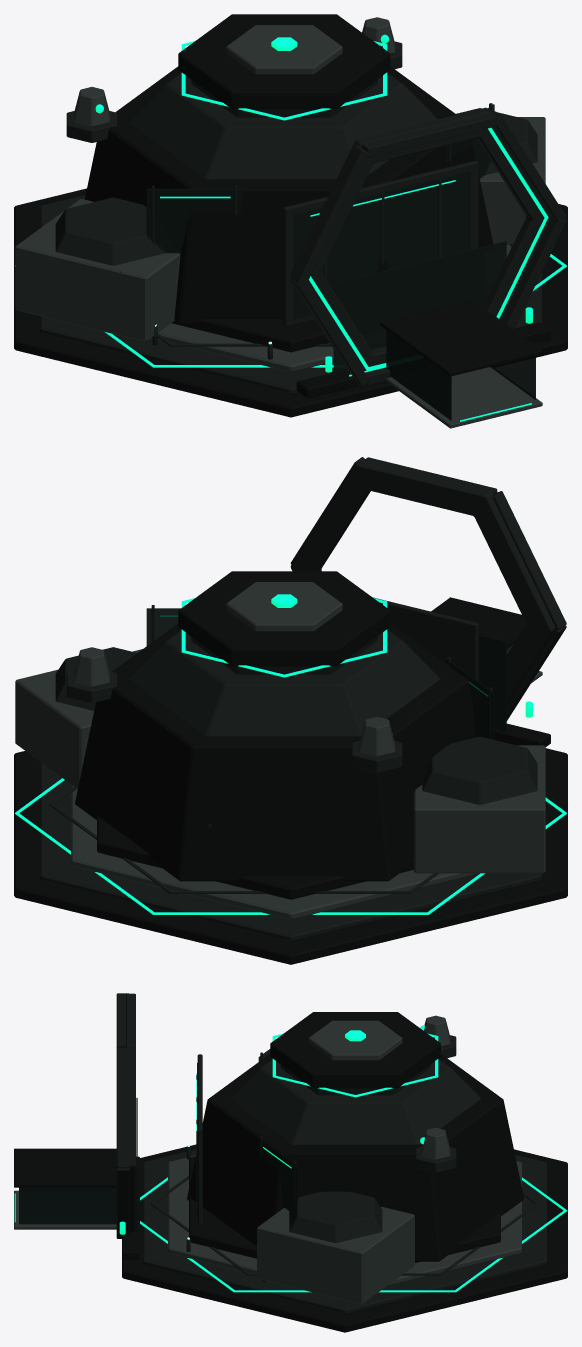
File: lorigine.glb
3 renders of one model, top to bottom at view 1: azimuth 30°, elevation 25°; view 2: azimuth 150°, elevation 25°; view 3: azimuth 270°, elevation 25°, orthographic. The views are drawn at different scales.
Parts seen in each view (by area): view 1: ORG_ResearchPavilion, ORG_ResearchVaultShoulder, ORG_FrontAtriumFrame, ORG_Foundation, ORG_WestGallery, ORG_ResearchVaultCap, ORG_FrontAtriumGlass, ORG_LaboratoryThreshold, ORG_ThresholdGlass, ORG_CoveredWalkwayRoof, ORG_TerraceLower, ORG_WestGallery_Roof (+23 smaller); view 2: ORG_ResearchPavilion, ORG_ResearchVaultShoulder, ORG_Foundation, ORG_TerraceLower, ORG_LaboratoryThreshold, ORG_ResearchVaultCap, ORG_WestGallery, ORG_TerraceUpper, ORG_WestGallery_Roof, ORG_EastGallery, ORG_CentralCoreHousing, ORG_FrontAtriumFrame (+18 smaller); view 3: ORG_ResearchPavilion, ORG_ResearchVaultShoulder, ORG_Foundation, ORG_TerraceLower, ORG_EastGallery, ORG_ResearchVaultCap, ORG_TerraceUpper, ORG_CoveredWalkwayRoof, ORG_EastGallery_Roof, ORG_CoveredWalkwayGlass_East, ORG_LaboratoryPlinth, ORG_CentralCoreHousing (+15 smaller).
Boxes of the visible parts, box(x1,y1,x2,y2) form: ORG_ResearchPavilion: box(84, 66, 493, 324); ORG_ResearchVaultShoulder: box(128, 72, 437, 179); ORG_FrontAtriumFrame: box(283, 160, 478, 326); ORG_Foundation: box(14, 188, 567, 417); ORG_WestGallery: box(15, 198, 180, 341); ORG_ResearchVaultCap: box(178, 14, 390, 109); ORG_FrontAtriumGlass: box(294, 170, 470, 318); ORG_LaboratoryThreshold: box(291, 107, 551, 371); ORG_ThresholdGlass: box(333, 241, 506, 373); ORG_CoveredWalkwayRoof: box(380, 299, 542, 376); ORG_TerraceLower: box(40, 195, 541, 394); ORG_WestGallery_Roof: box(55, 197, 167, 265); ORG_ResearchPavilion: box(75, 623, 476, 881); ORG_ResearchVaultShoulder: box(128, 629, 440, 736); ORG_Foundation: box(14, 748, 567, 964); ORG_TerraceLower: box(40, 762, 541, 941); ORG_LaboratoryThreshold: box(291, 460, 555, 704); ORG_ResearchVaultCap: box(178, 571, 390, 666); ORG_WestGallery: box(414, 745, 545, 873); ORG_TerraceUpper: box(71, 784, 479, 919); ORG_WestGallery_Roof: box(422, 736, 537, 804); ORG_EastGallery: box(15, 649, 142, 788); ORG_CentralCoreHousing: box(226, 582, 342, 631); ORG_FrontAtriumFrame: box(373, 597, 478, 680); ORG_ResearchPavilion: box(187, 1054, 523, 1261); ORG_ResearchVaultShoulder: box(230, 1059, 480, 1144); ORG_Foundation: box(122, 1144, 567, 1332); ORG_TerraceLower: box(143, 1149, 546, 1313); ORG_EastGallery: box(257, 1207, 414, 1304); ORG_ResearchVaultCap: box(270, 1012, 440, 1088); ORG_TerraceUpper: box(168, 1155, 521, 1285); ORG_CoveredWalkwayRoof: box(14, 1148, 116, 1187); ORG_EastGallery_Roof: box(289, 1191, 382, 1243); ORG_CoveredWalkwayGlass_East: box(19, 1187, 116, 1224); ORG_LaboratoryPlinth: box(189, 1156, 500, 1262); ORG_CentralCoreHousing: box(308, 1020, 402, 1060).
Bounding box in the file's own units: 67.82 × 29.94 × 73.14.
